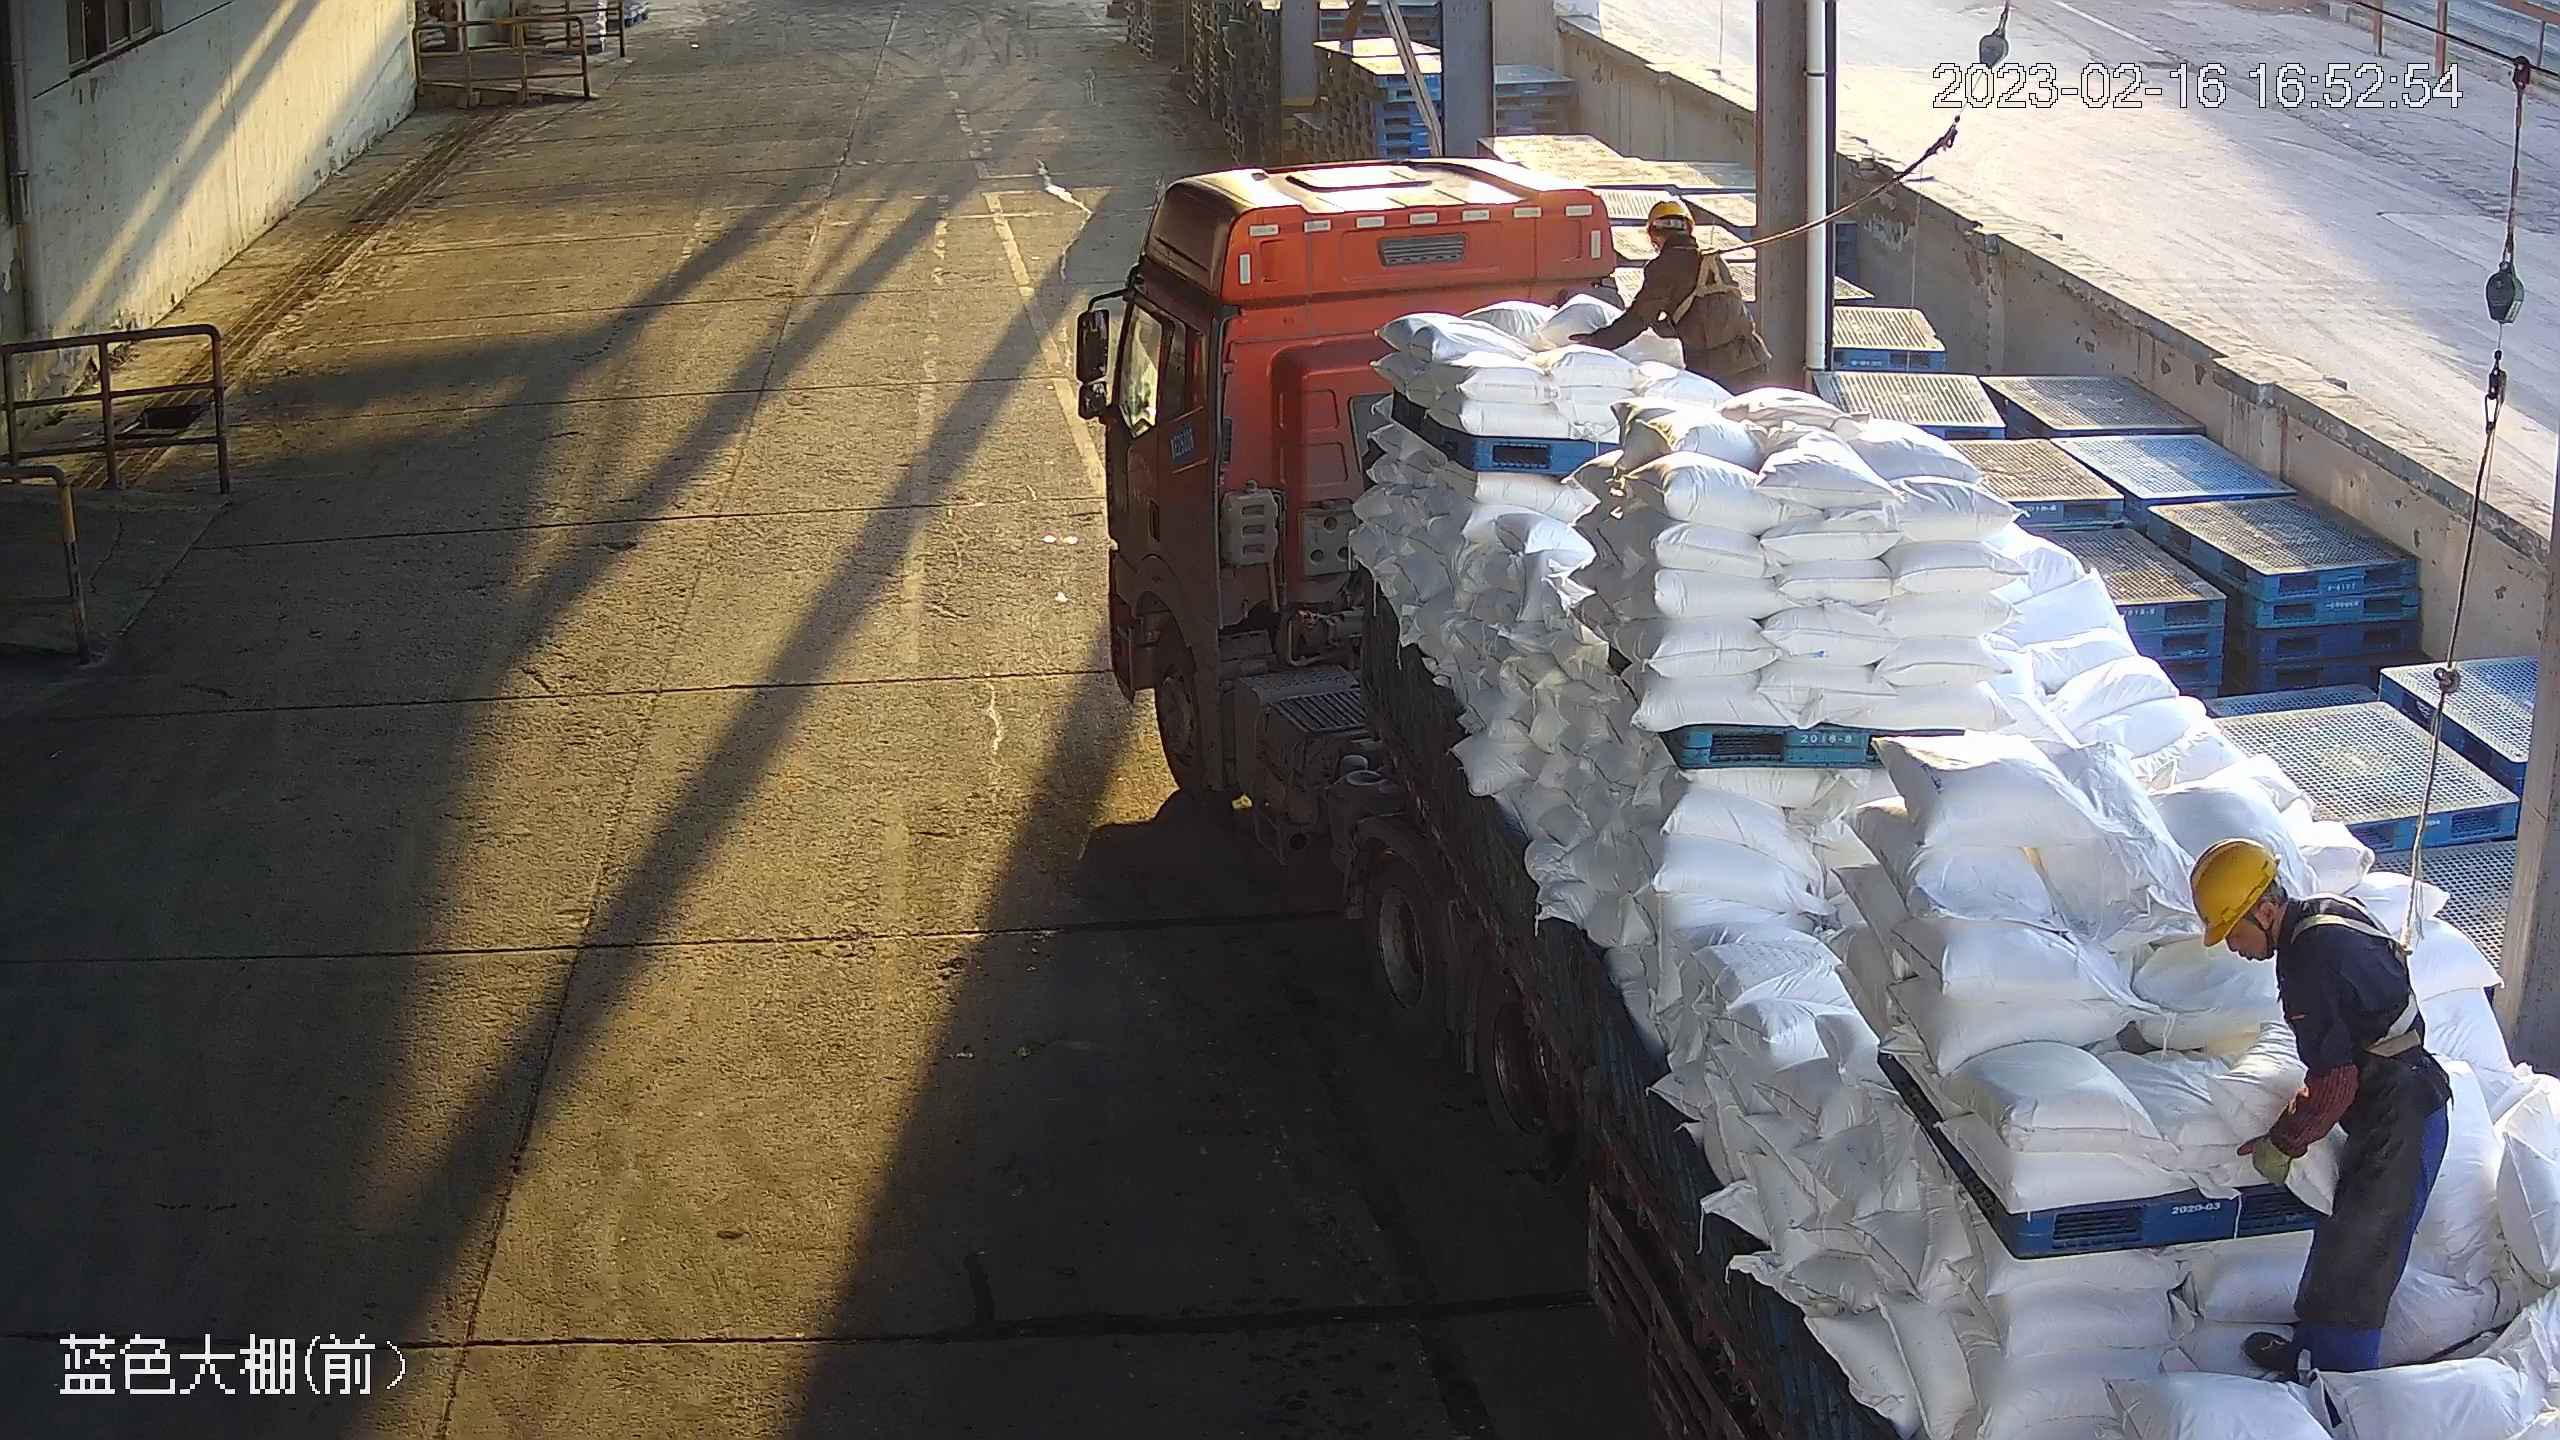belt: (2282, 886, 2433, 1051), (1659, 247, 1738, 321)
head: (2188, 838, 2414, 1016), (1620, 195, 1738, 288)
helmet: (2188, 838, 2288, 958), (1640, 188, 1699, 236)
people: (2194, 827, 2459, 1388)
truck: (1068, 140, 2560, 1440)
